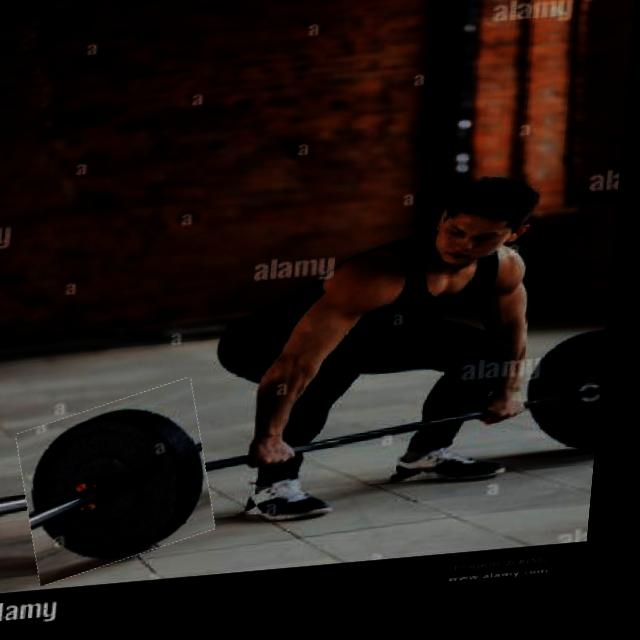barbell: (24, 390, 229, 582)
